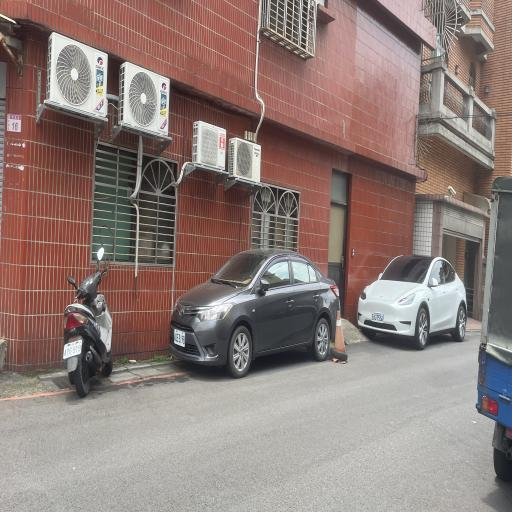MIU: (159, 328, 215, 388)
car: (164, 238, 343, 384), (354, 237, 469, 360)
redline: (2, 359, 197, 405)
